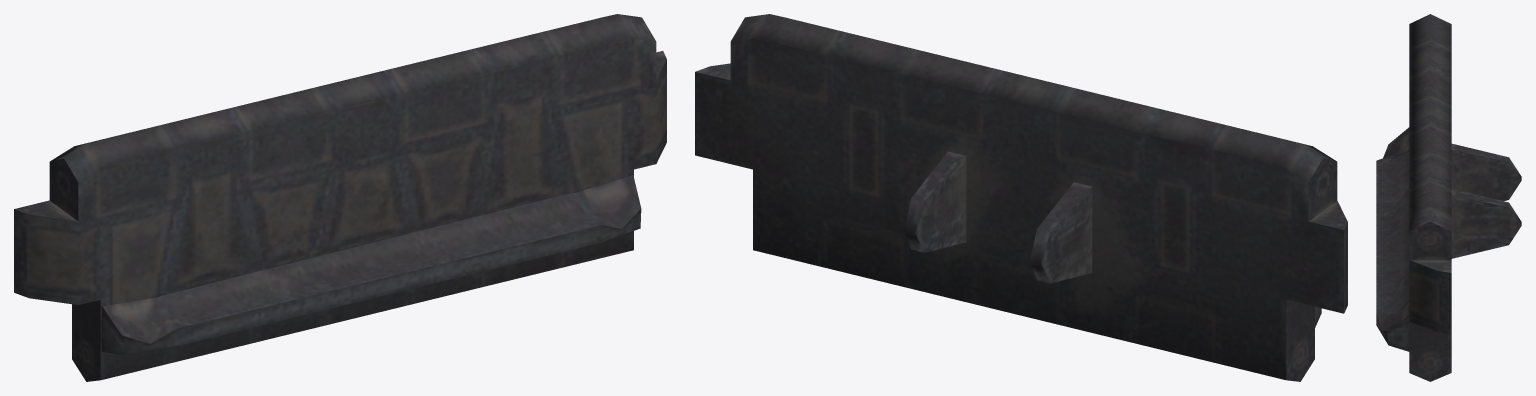
3 renders of one model, left to right at view 1: azimuth 30°, elevation 25°; view 2: azimuth 150°, elevation 25°; view 3: azimuth 270°, elevation 25°, orthographic. The views are drawn at different scales.
Parts seen in each view (by area): view 1: set_0_group_0; view 2: set_0_group_0; view 3: set_0_group_0.
Boxes of the visible parts, x1=… form: set_0_group_0: x1=14, y1=14, x2=666, y2=381; set_0_group_0: x1=695, y1=14, x2=1347, y2=381; set_0_group_0: x1=1376, y1=14, x2=1521, y2=381.
Bounding box in the file's own units: 0.6596 × 0.2316 × 0.1738.
1 material, 1 textured.
